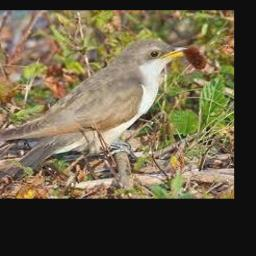Cuckoo: (0, 40, 188, 199)
